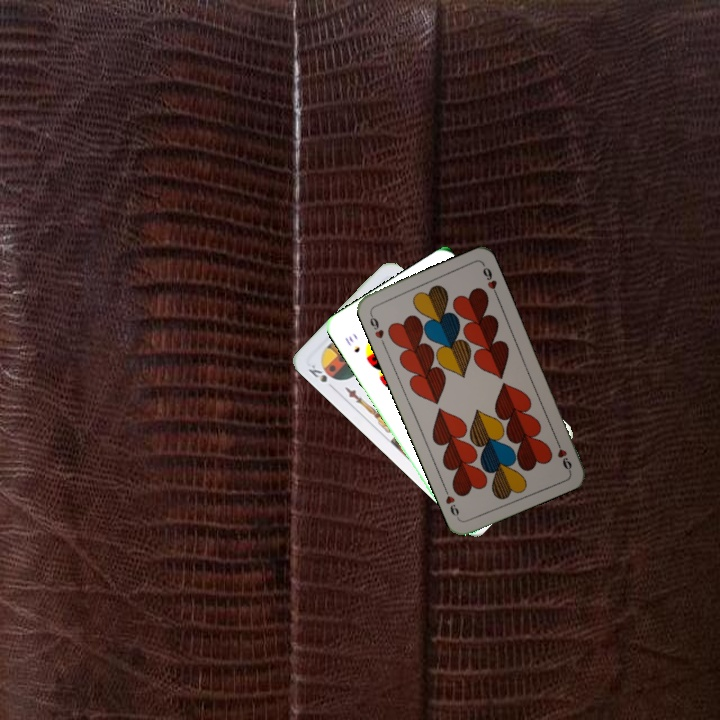H9: (551, 435, 574, 474), (366, 309, 388, 348)
S10: (341, 332, 363, 355)
SK: (304, 360, 330, 385)
